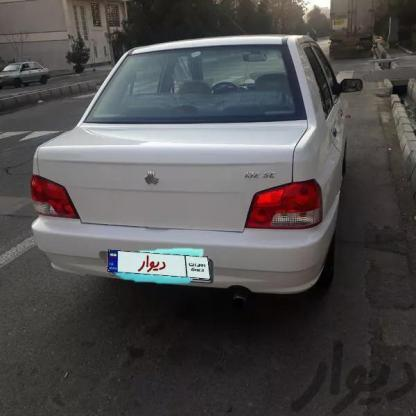Car: (26, 25, 363, 315), (0, 57, 48, 105)
